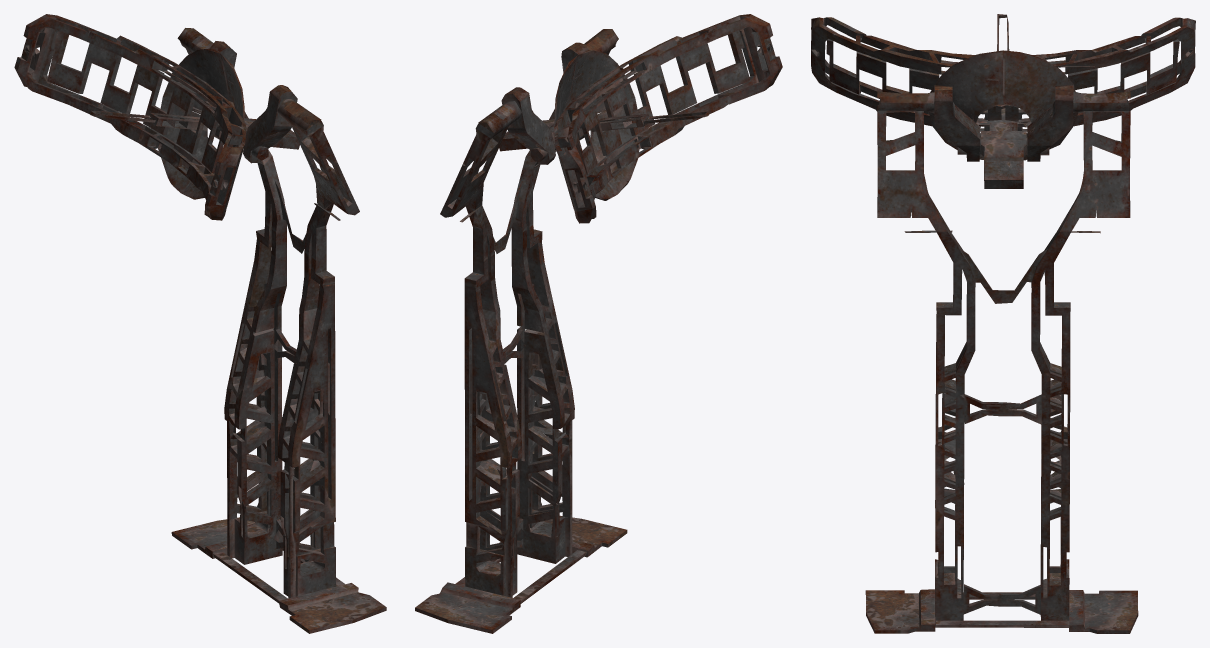
File: SM_Antenna_04.fbx
The picture shows the model from 3 angles, left to right: view 1: azimuth 30°, elevation 25°; view 2: azimuth 150°, elevation 25°; view 3: azimuth 270°, elevation 25°; orthographic projection.
Visible parts, largest first — view 1: SM_Antenna_04_LOD0; view 2: SM_Antenna_04_LOD0; view 3: SM_Antenna_04_LOD0.
Boxes of the visible parts, <box> form: SM_Antenna_04_LOD0: <box>14,14,386,633</box>; SM_Antenna_04_LOD0: <box>415,14,782,633</box>; SM_Antenna_04_LOD0: <box>811,14,1195,633</box>.
Size of the model in its own units: 66.56 by 95.8 by 147.
1 material, 1 textured.
